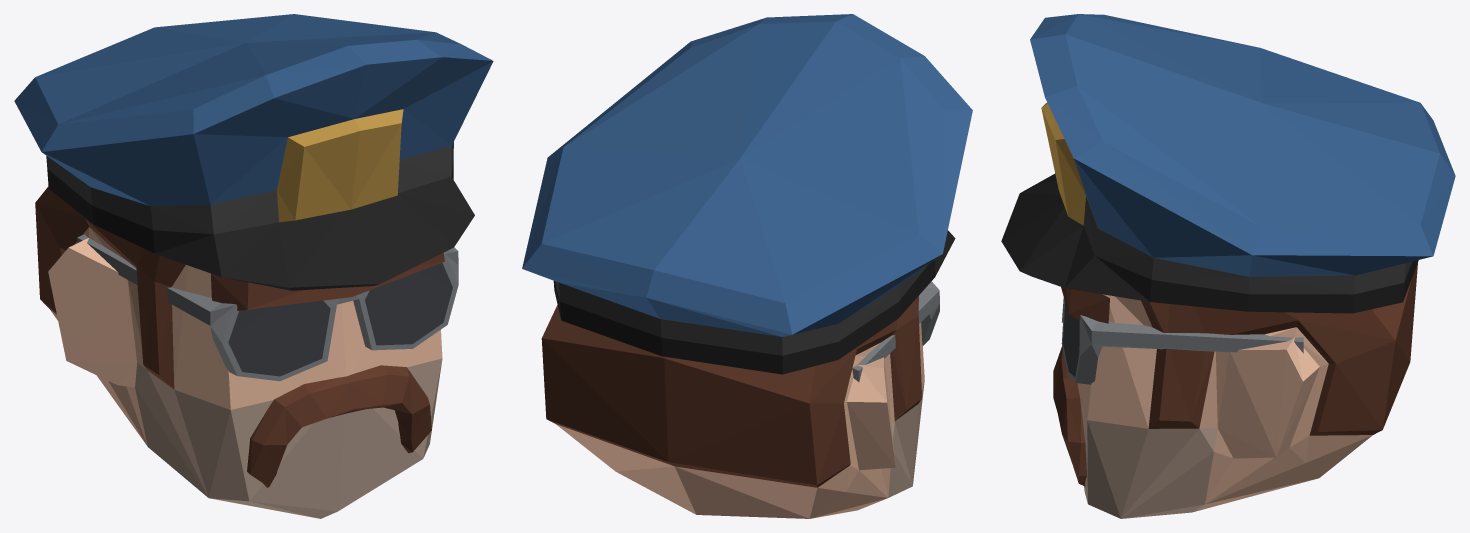
Rendered from Head_Cop.glb.
3 views of the same model, side by side, from view 1: azimuth 30°, elevation 25°; view 2: azimuth 150°, elevation 25°; view 3: azimuth 270°, elevation 25° (orthographic). The views are drawn at different scales.
Parts seen in each view (by area): view 1: polySurface1; view 2: polySurface1; view 3: polySurface1.
Boxes of the visible parts, bbox=[...] form: polySurface1: bbox=[14, 14, 493, 518]; polySurface1: bbox=[522, 14, 972, 518]; polySurface1: bbox=[1001, 14, 1455, 518].
Bounding box in the file's own units: 0.3439 × 0.3854 × 0.3324.
Materials: 1 (1 with a texture image).
